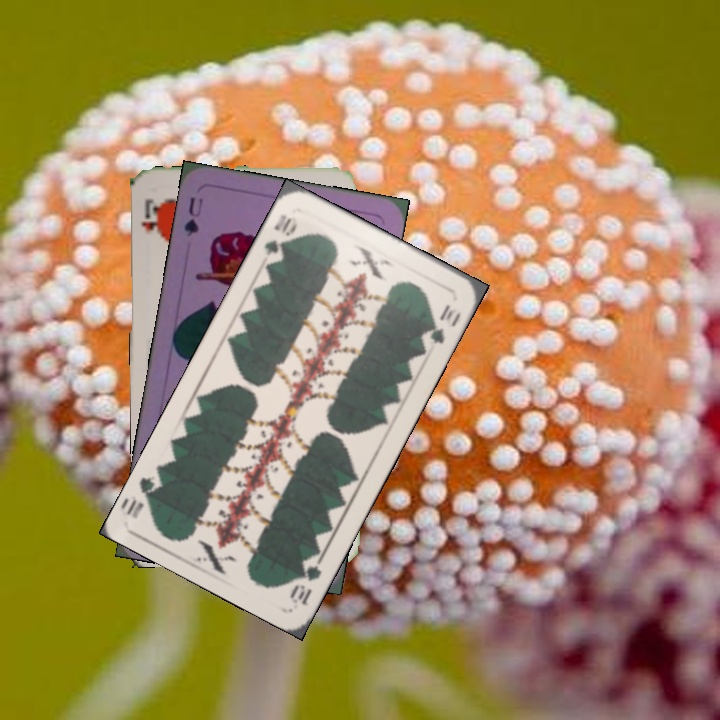G10: (285, 550, 325, 609), (259, 210, 300, 259)
GU: (180, 193, 206, 239)
HO: (138, 195, 162, 241)
